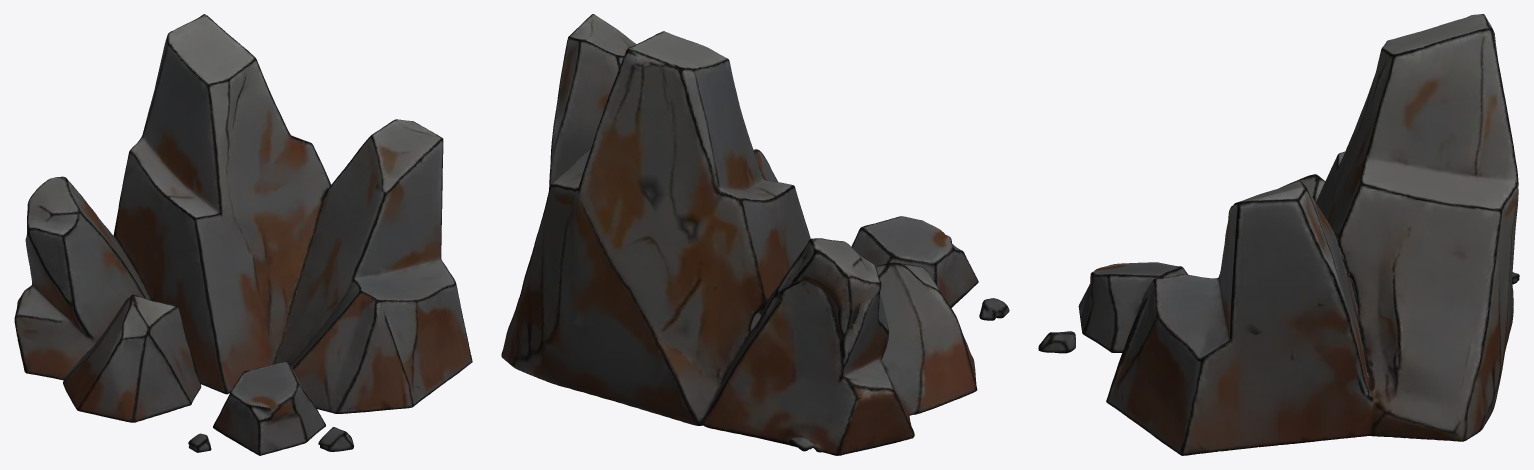
File: iron-optimized.glb
The picture shows the model from 3 angles, left to right: view 1: azimuth 30°, elevation 25°; view 2: azimuth 150°, elevation 25°; view 3: azimuth 270°, elevation 25°; orthographic projection. The views are drawn at different scales.
Visible parts, largest first — view 1: world; view 2: world; view 3: world.
Boxes of the visible parts, <box> form: world: <box>14,14,472,455</box>; world: <box>501,14,1009,455</box>; world: <box>1038,14,1519,455</box>.
Bounding box in the file's own units: 0.9977 × 0.7977 × 1.
Materials: 1 (1 with a texture image).
